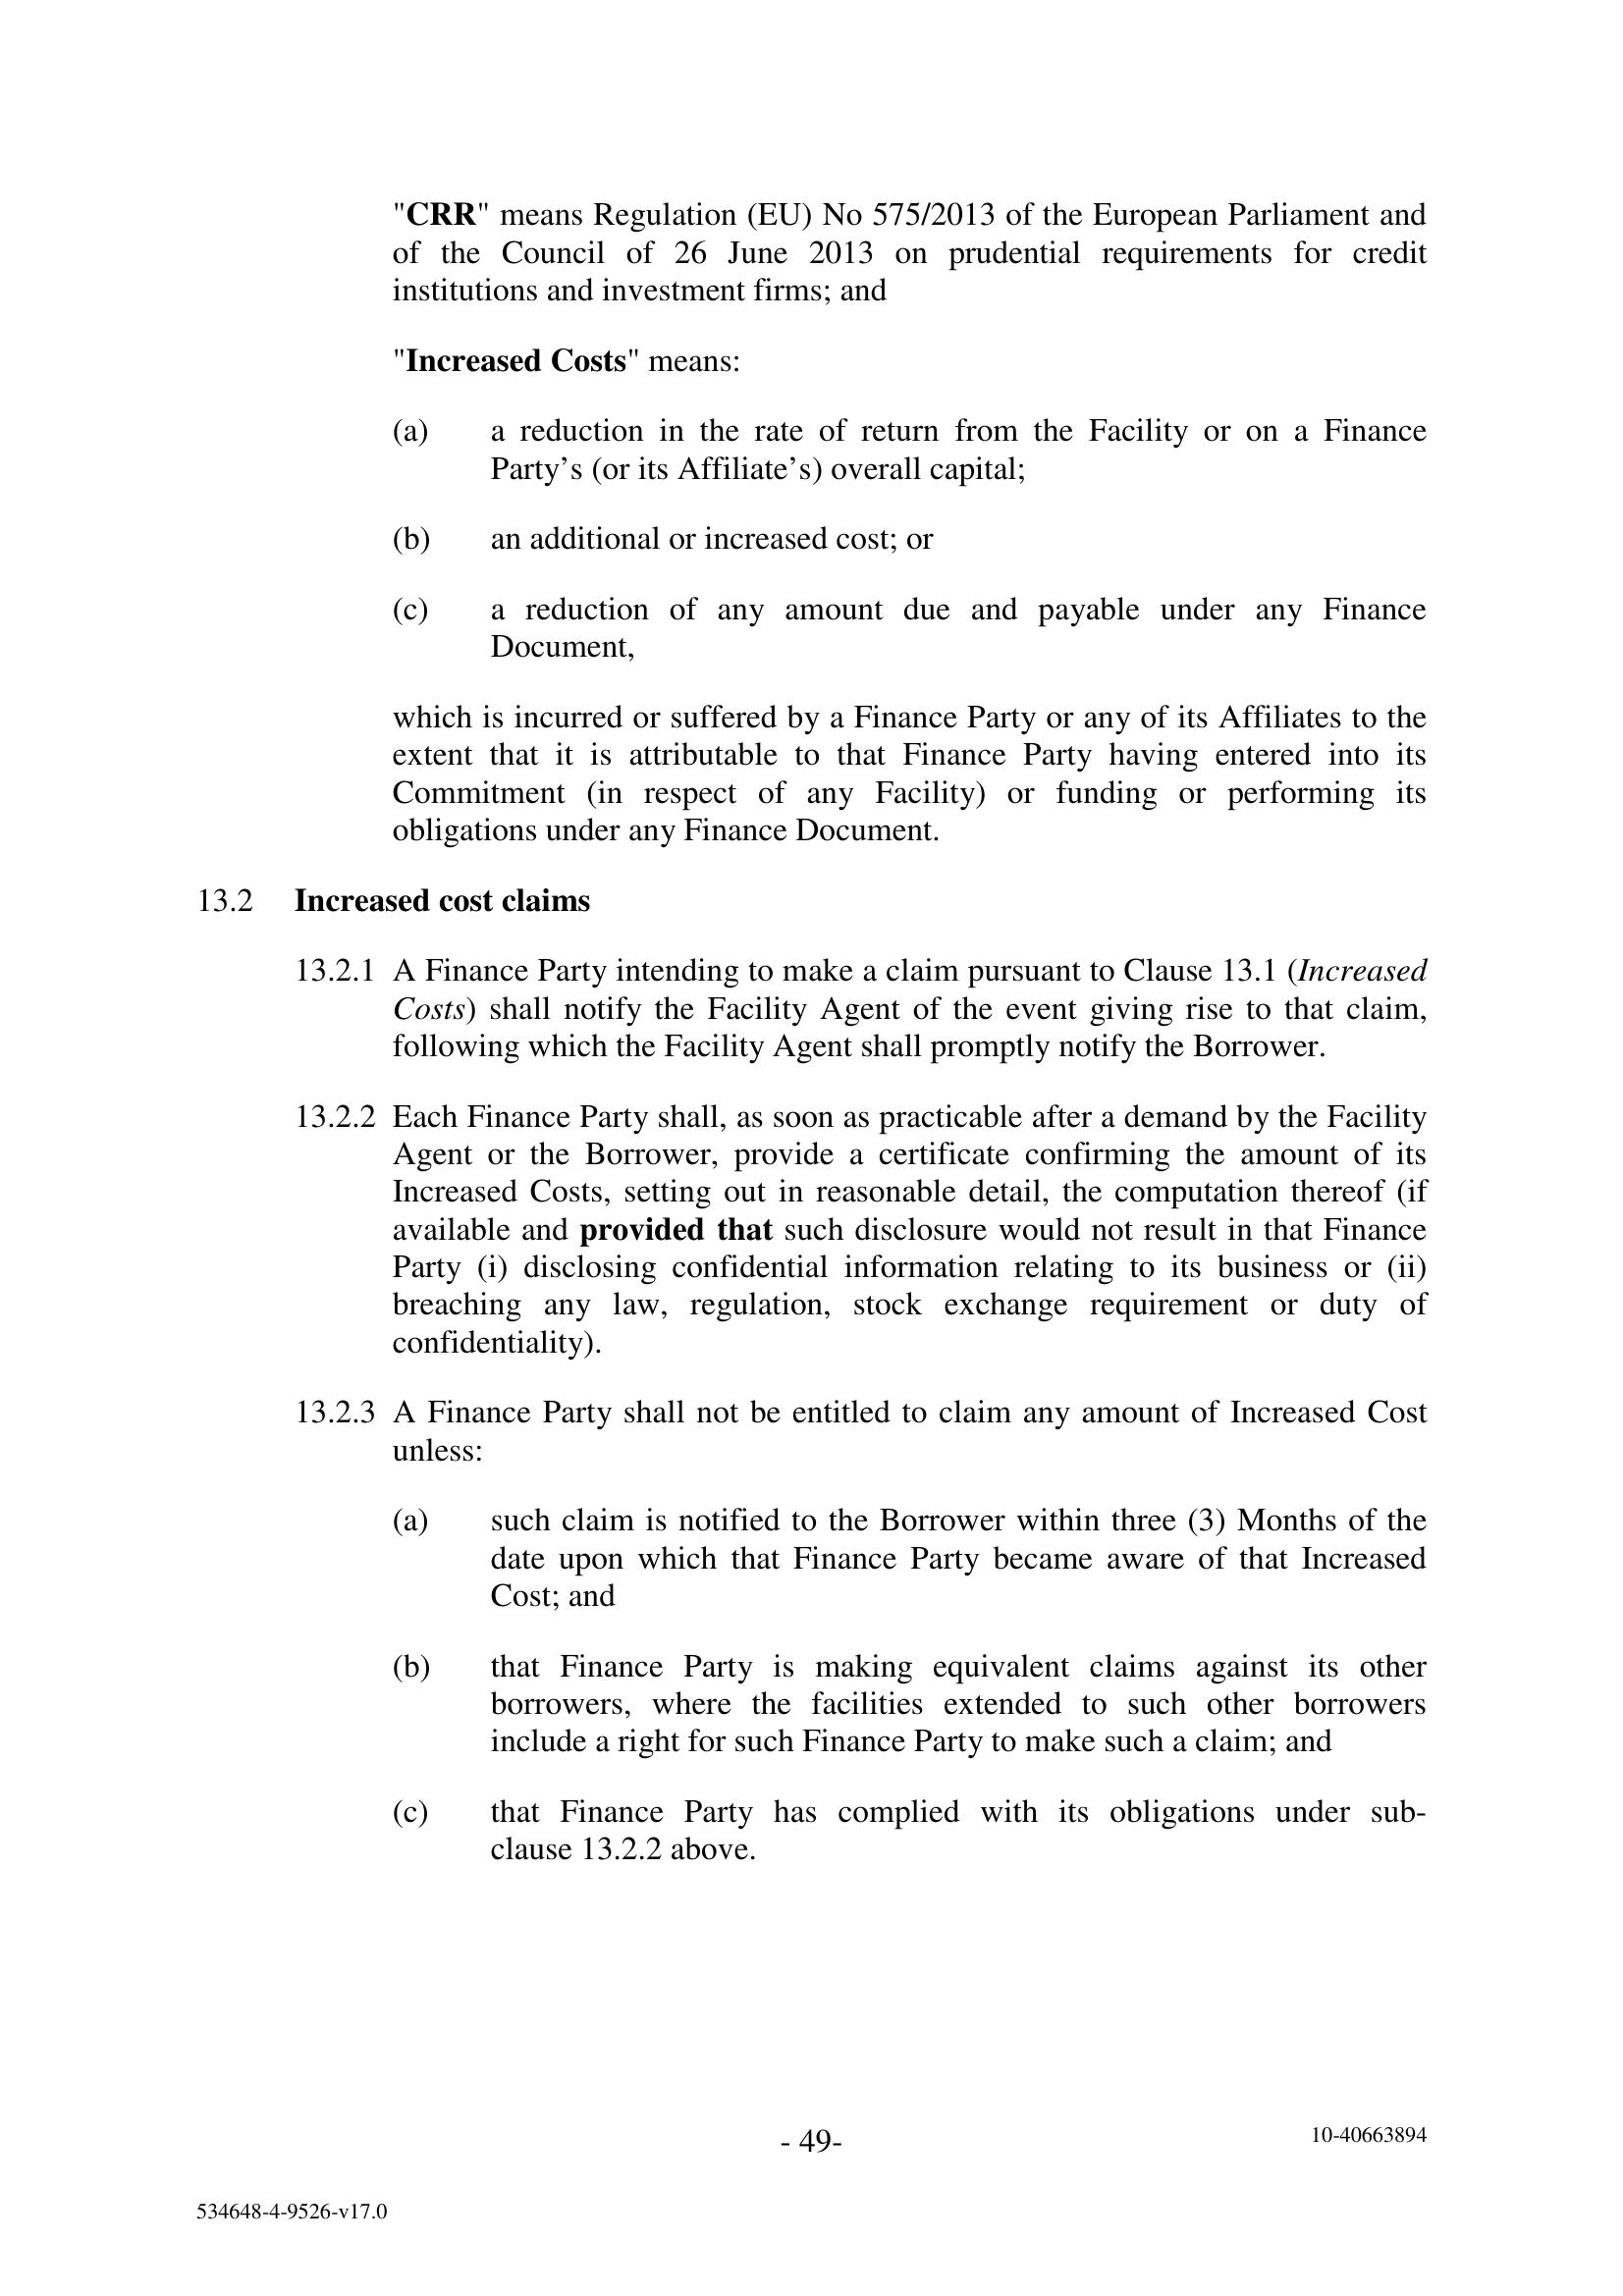pageno: (720, 2082, 913, 2206)
tag: (1175, 2085, 1551, 2194), (95, 2175, 465, 2273)
